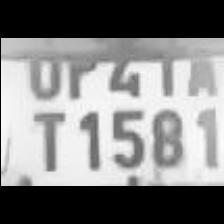1: (188, 98, 222, 170), (70, 103, 104, 172), (150, 38, 177, 94)
4: (106, 38, 146, 98)
5: (104, 103, 146, 169)
8: (145, 103, 186, 169)
A: (184, 38, 216, 96)
P: (57, 38, 103, 100)
T: (21, 103, 69, 172)
U: (17, 38, 65, 98)
